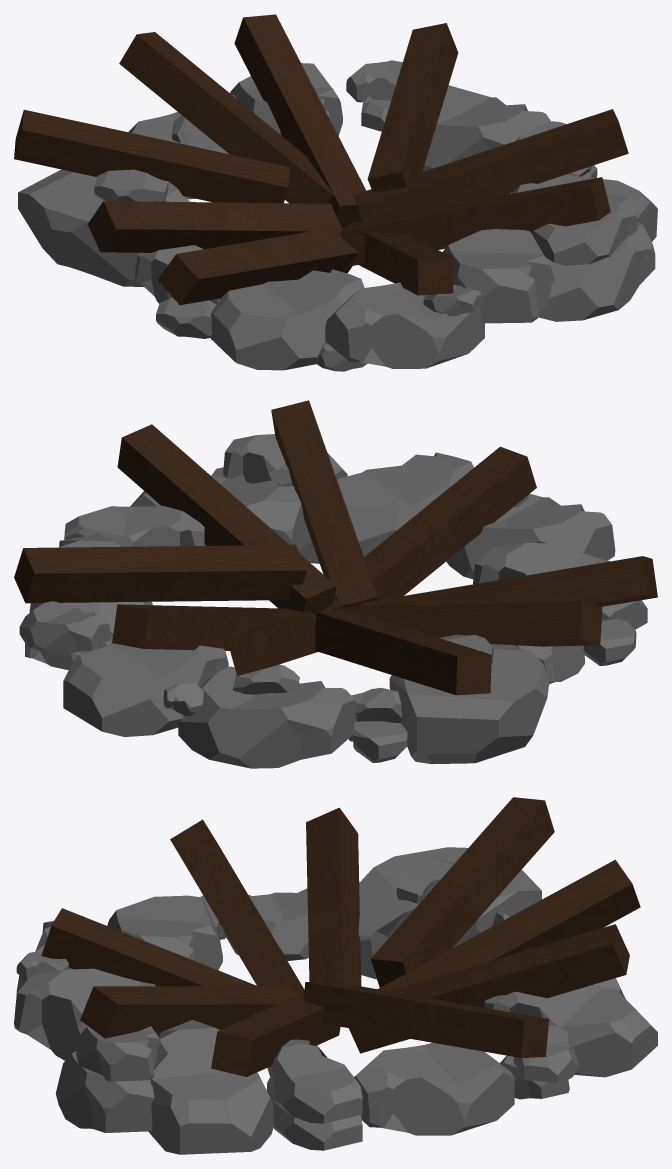
The model's file is firecamp.fbx.
The picture shows the model from 3 angles, top to bottom: view 1: azimuth 30°, elevation 25°; view 2: azimuth 150°, elevation 25°; view 3: azimuth 270°, elevation 25°; orthographic projection. The views are drawn at different scales.
Visible parts, largest first — view 1: campfire_wood, campfire_stone; view 2: campfire_wood, campfire_stone; view 3: campfire_wood, campfire_stone.
Part boxes in pixels (x1,y1,x2,y2): campfire_wood: (14, 14, 628, 304); campfire_stone: (18, 60, 657, 371); campfire_wood: (14, 400, 657, 695); campfire_stone: (19, 434, 647, 768); campfire_wood: (41, 797, 640, 1076); campfire_stone: (14, 847, 657, 1154).
Bounding box in the file's own units: 146 × 40.1 × 156.
